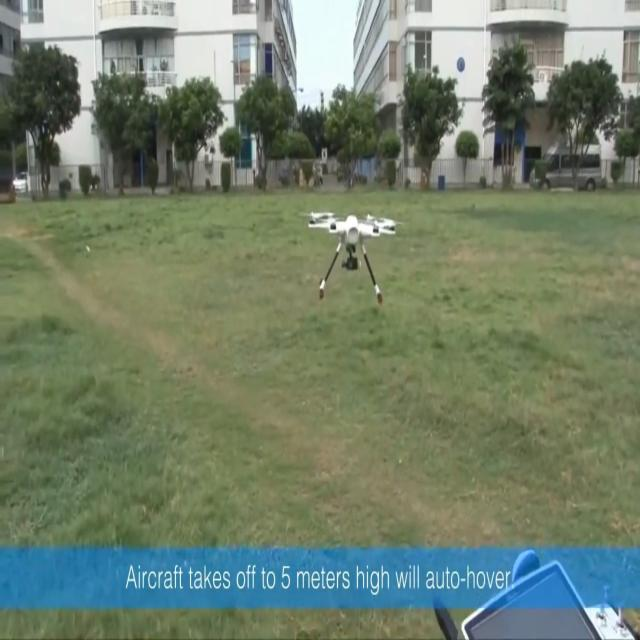drone: (300, 210, 404, 305)
